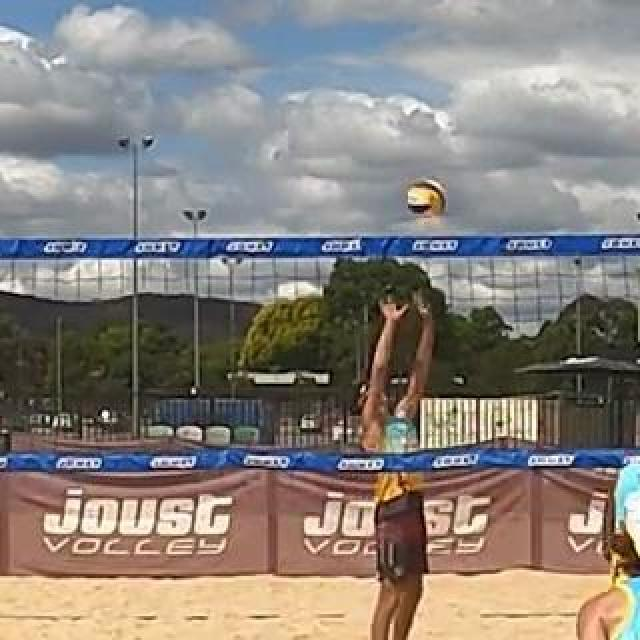volleyball: (407, 182, 445, 222)
